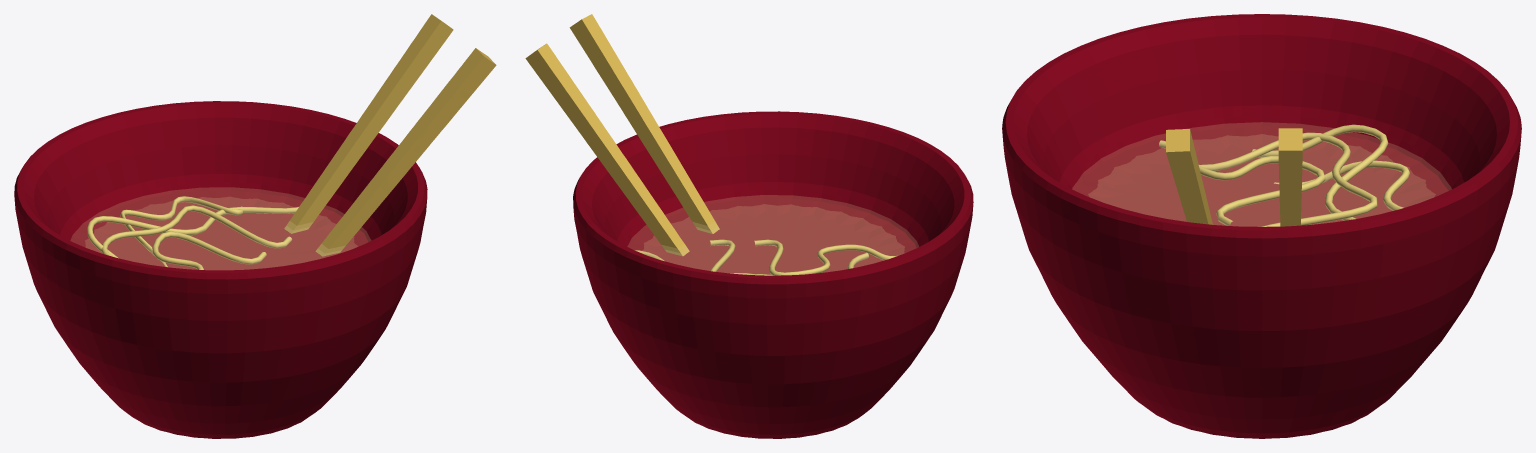
File: holoGram.glb
3 views of the same model, side by side, from view 1: azimuth 30°, elevation 25°; view 2: azimuth 150°, elevation 25°; view 3: azimuth 270°, elevation 25° (orthographic). The views are drawn at different scales.
Visible parts, largest first — view 1: ramenBowl_Cylinder; view 2: ramenBowl_Cylinder; view 3: ramenBowl_Cylinder.
Part boxes in pixels (x1,y1,x2,y2): ramenBowl_Cylinder: (14,14,496,438); ramenBowl_Cylinder: (525,14,973,438); ramenBowl_Cylinder: (1002,14,1521,438).
Bounding box in the file's own units: 9.98 × 7.28 × 8.54.
